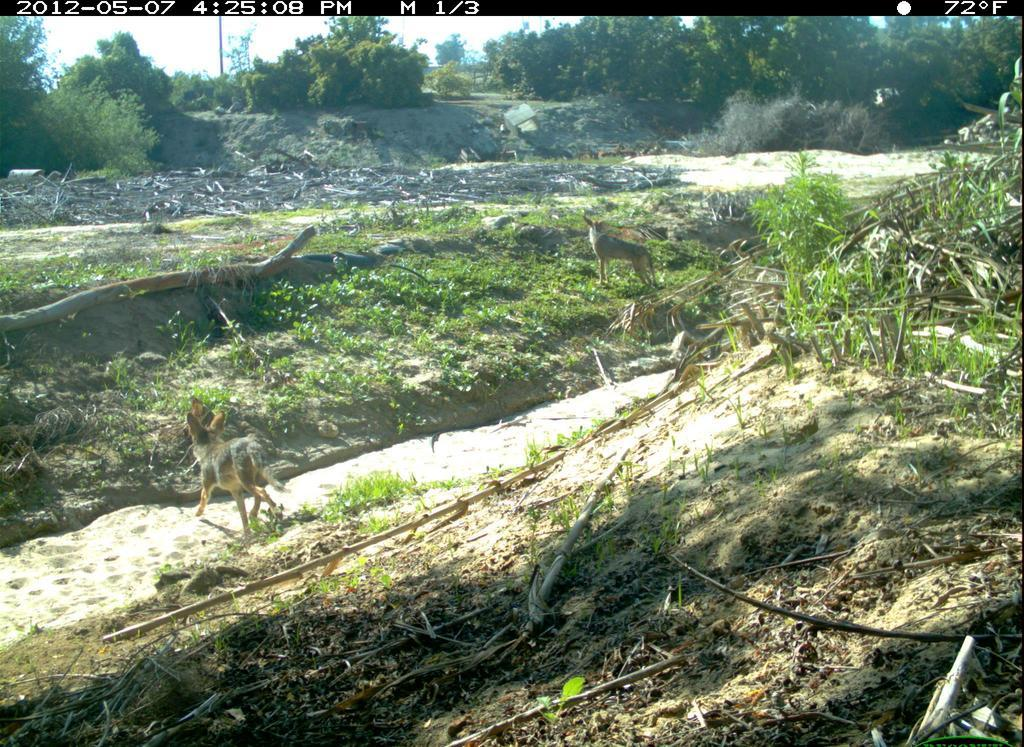coyote: (175, 406, 289, 536), (580, 213, 661, 292)
